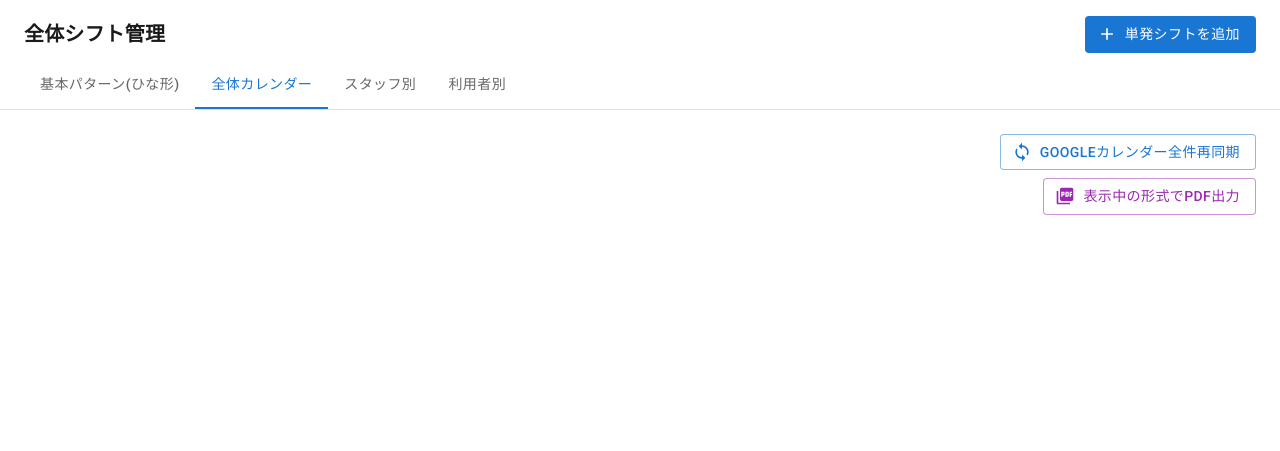
Test: navigates the start deep link, opens shiftId when fetched and handles it only once
Click the tab "基本パターン(ひな形)". click: (110, 84)
box: [24,60,196,108]
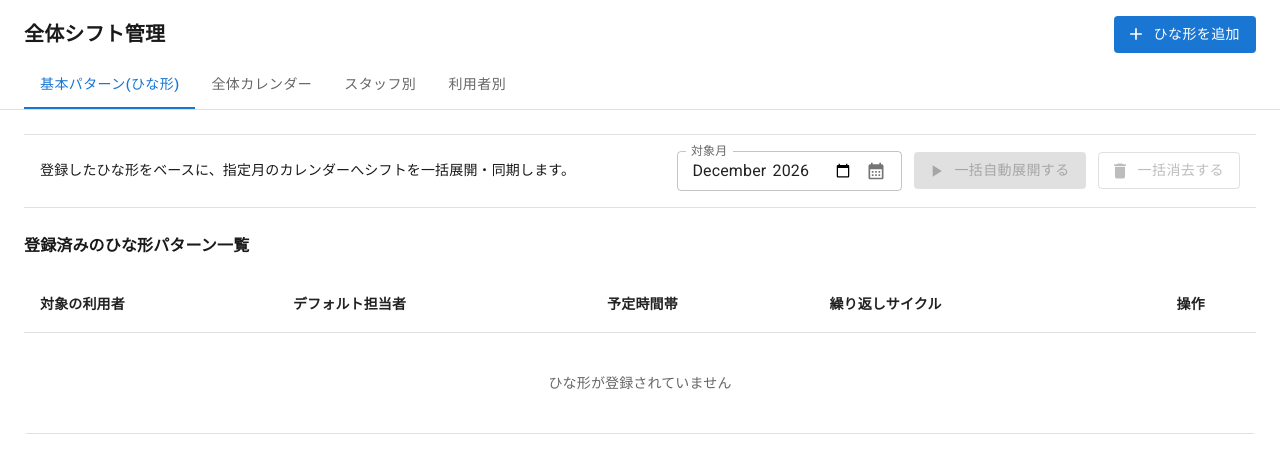
Expected: the field showing "2026-12" is shown, [677,150,853,190]
